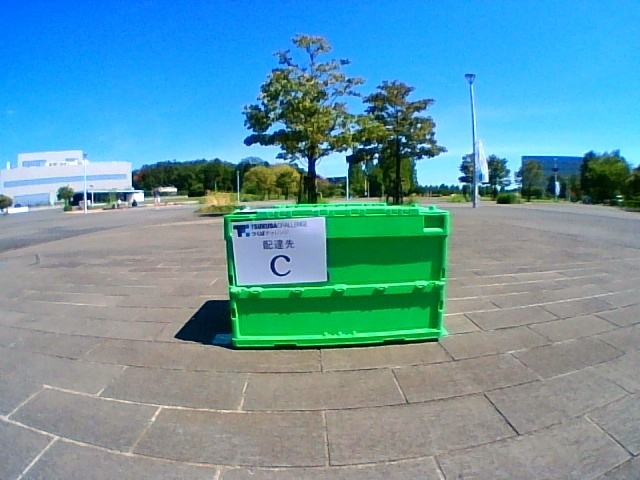green_box: (223, 202, 449, 347)
tag_c: (238, 223, 324, 282)
